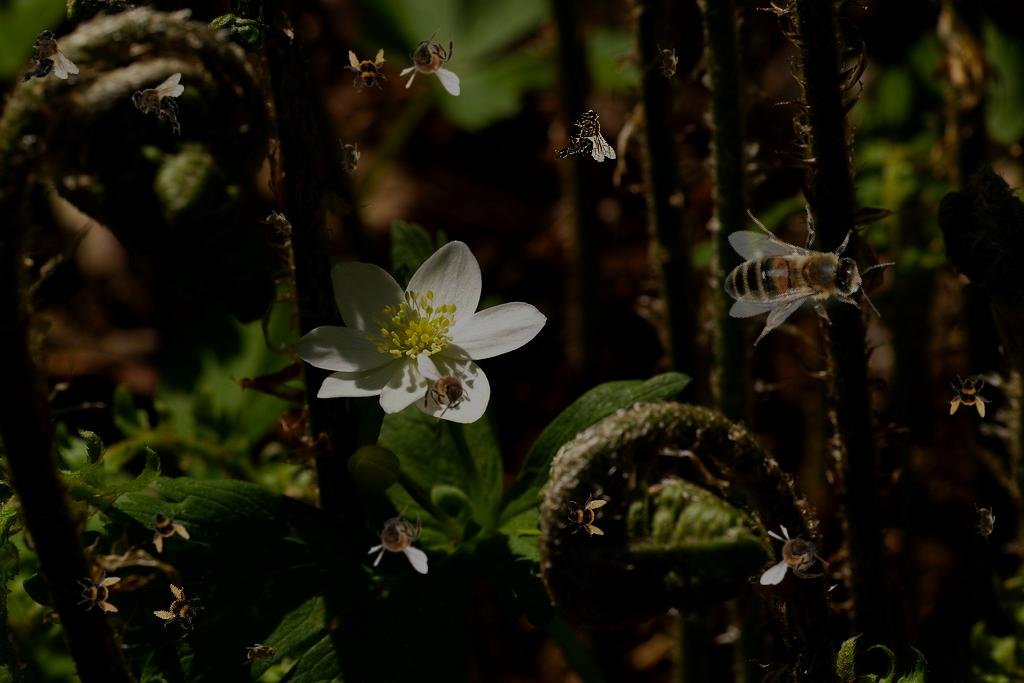Bee: (685, 158, 916, 390), (9, 24, 80, 88), (760, 524, 830, 585), (367, 504, 428, 574), (399, 26, 460, 96), (417, 353, 478, 423), (136, 496, 198, 558), (149, 580, 209, 640), (554, 109, 616, 162), (131, 73, 184, 135), (341, 45, 391, 95), (257, 203, 303, 247), (563, 493, 607, 537), (77, 570, 121, 614), (948, 374, 992, 418), (974, 503, 996, 543), (657, 44, 679, 84), (339, 139, 361, 179), (242, 643, 282, 665)
